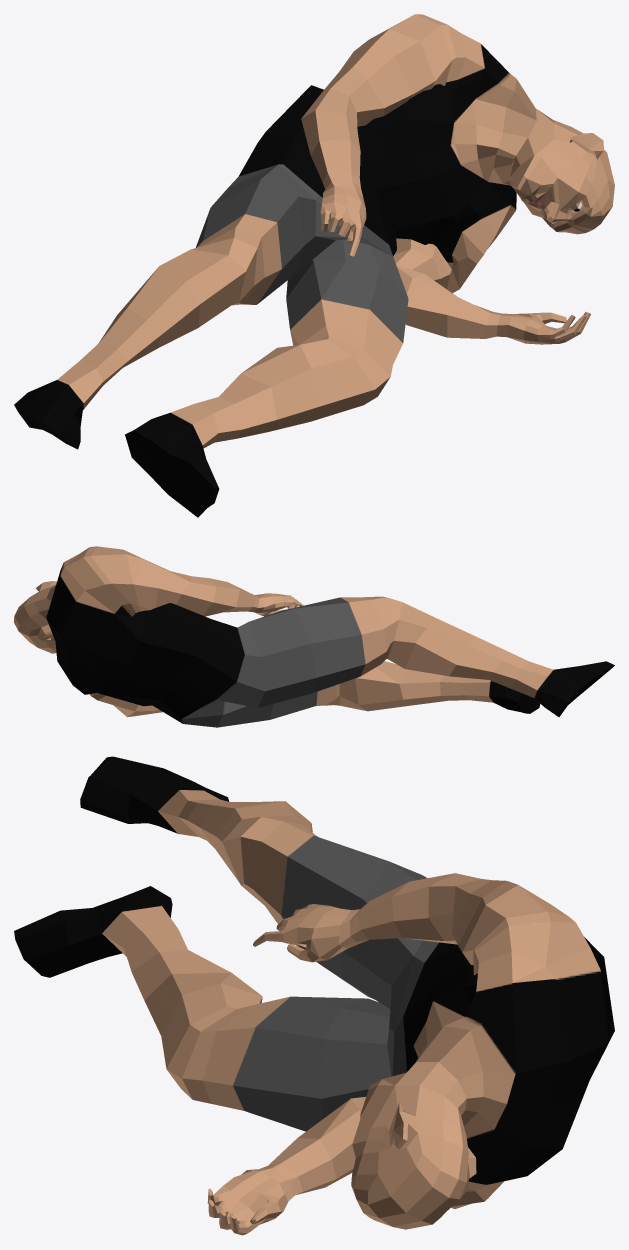
File: PlayerDead(62).obj
The picture shows the model from 3 angles, top to bottom: view 1: azimuth 30°, elevation 25°; view 2: azimuth 150°, elevation 25°; view 3: azimuth 270°, elevation 25°; orthographic projection. The views are drawn at different scales.
Visible parts, largest first — view 1: Plane002; view 2: Plane002; view 3: Plane002.
Part boxes in pixels (x1=…): Plane002: x1=14, y1=14, x2=614, y2=517; Plane002: x1=14, y1=546, x2=614, y2=727; Plane002: x1=14, y1=756, x2=614, y2=1235.
Size of the model in its own units: 1608 by 570 by 955.
